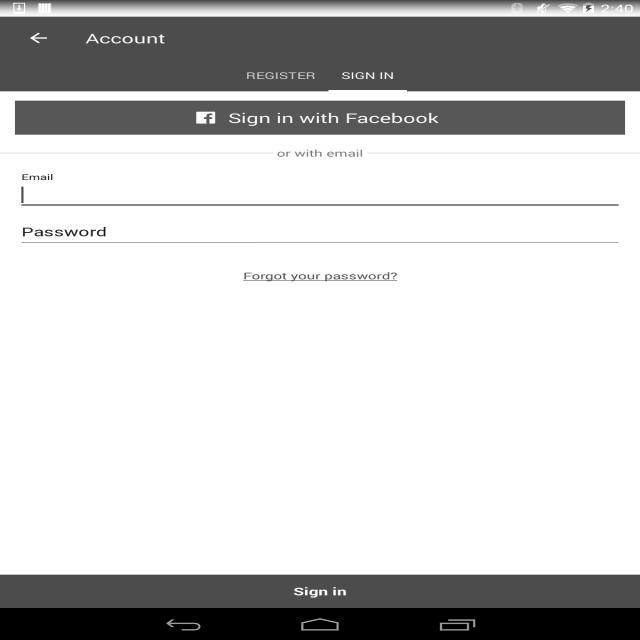EditText: (17, 180, 623, 210), (17, 218, 623, 248)
ImageButton: (9, 17, 68, 59)
ImageView: (197, 112, 216, 124)
TextView: (0, 258, 640, 292), (0, 584, 640, 598), (224, 106, 443, 129), (272, 144, 368, 162), (86, 29, 166, 47), (246, 69, 316, 82), (341, 69, 394, 82)
